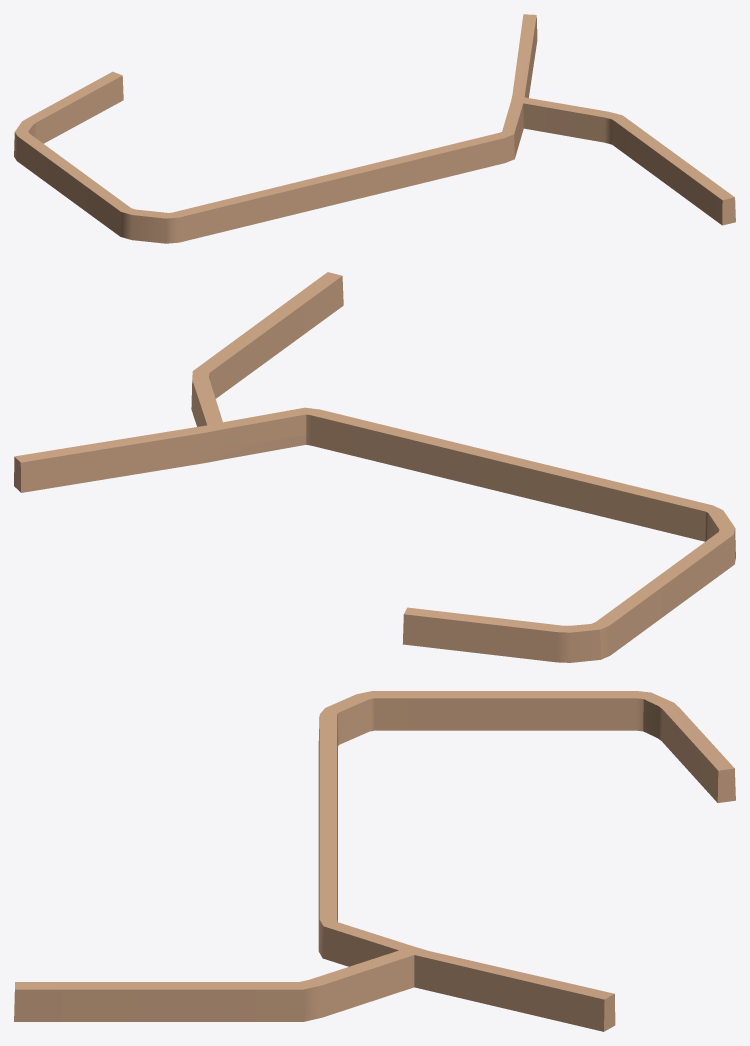
The model's file is binnen_baan.fbx.
3 views of the same model, one above another, from view 1: azimuth 30°, elevation 25°; view 2: azimuth 150°, elevation 25°; view 3: azimuth 270°, elevation 25° (orthographic). The views are drawn at different scales.
Visible parts, largest first — view 1: basteen_midden; view 2: basteen_midden; view 3: basteen_midden.
Boxes of the visible parts, x1,y1,x2,y2 form: basteen_midden: (14, 14, 735, 243); basteen_midden: (14, 272, 735, 662); basteen_midden: (14, 691, 735, 1031).
Bounding box in the file's own units: 989 × 59.85 × 947.
